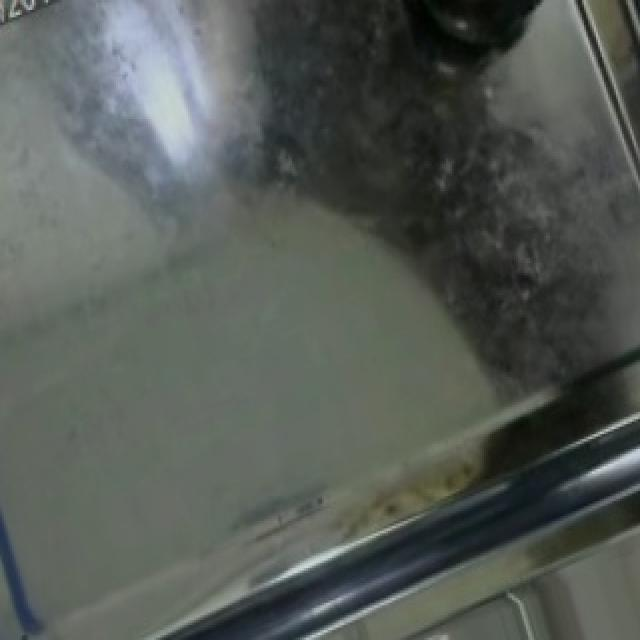Fruit: (402, 0, 560, 64)
